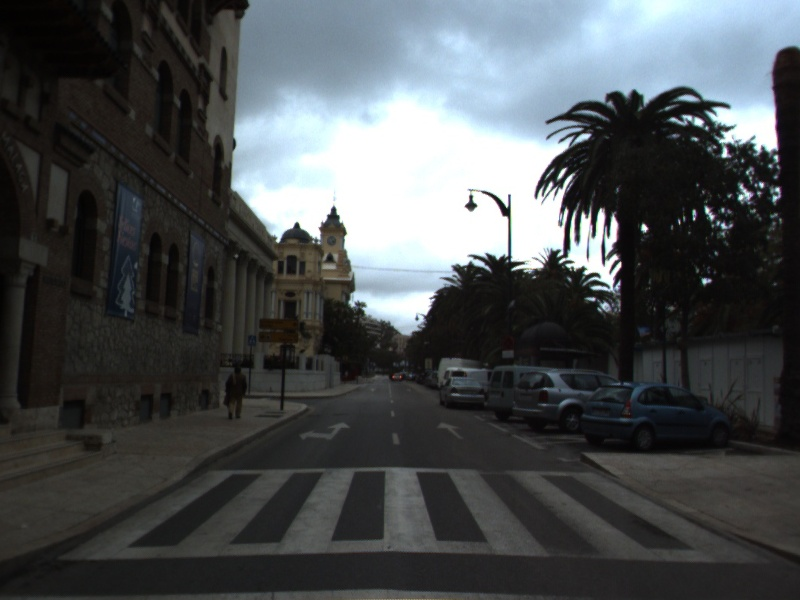STRAIGHT: (435, 420, 465, 441)
STRAIGHT_LEFT: (297, 420, 353, 442)
